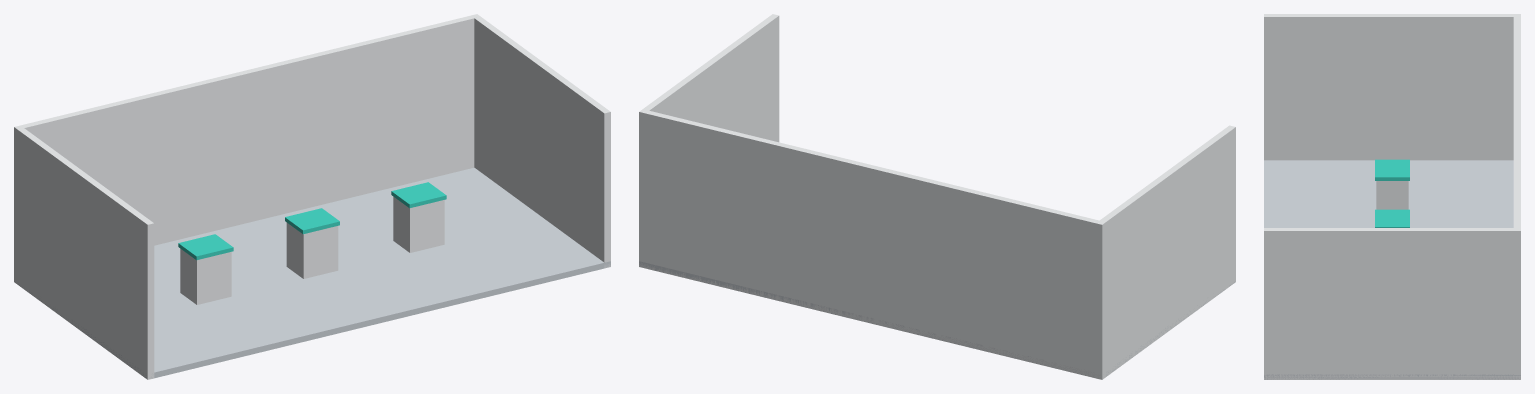
3 views of the same model, side by side, from view 1: azimuth 30°, elevation 25°; view 2: azimuth 150°, elevation 25°; view 3: azimuth 270°, elevation 25° (orthographic). The views are drawn at different scales.
Parts seen in each view (by area): view 1: Exhibition Booth Concept; view 2: Exhibition Booth Concept; view 3: Exhibition Booth Concept.
Boxes of the visible parts, x1,y1,x2,y2 form: Exhibition Booth Concept: (14, 14, 610, 379); Exhibition Booth Concept: (639, 14, 1235, 379); Exhibition Booth Concept: (1264, 14, 1520, 379).
Size of the model in its own units: 10 by 3.2 by 5.
